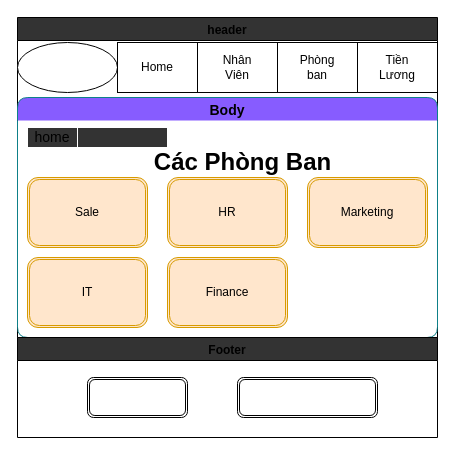
Some shapes in this 455 by 455 pixel diagram are drawn without their labels. The shapes that lost their labels are listed below. From the top down, each one's centre as x and y in pixels, then its label:
point (67, 67): Logo
point (122, 137): Departments
point (137, 397): Thông tin địa chỉ
point (307, 397): Logo các mạng xã hội
